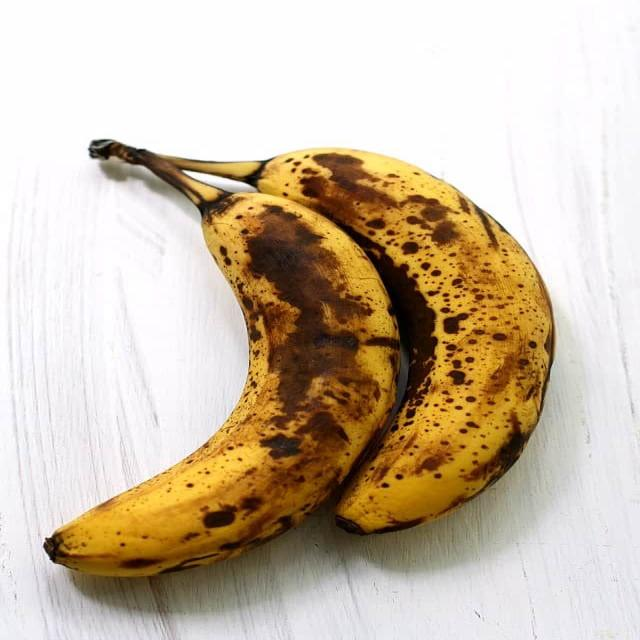unpeal banana: (45, 141, 398, 576), (165, 148, 552, 533)
